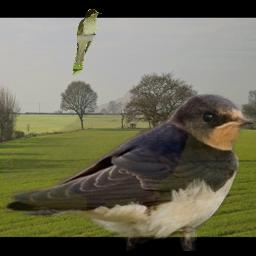Cuckoo: (72, 9, 102, 76)
Swallow: (3, 90, 255, 251)
